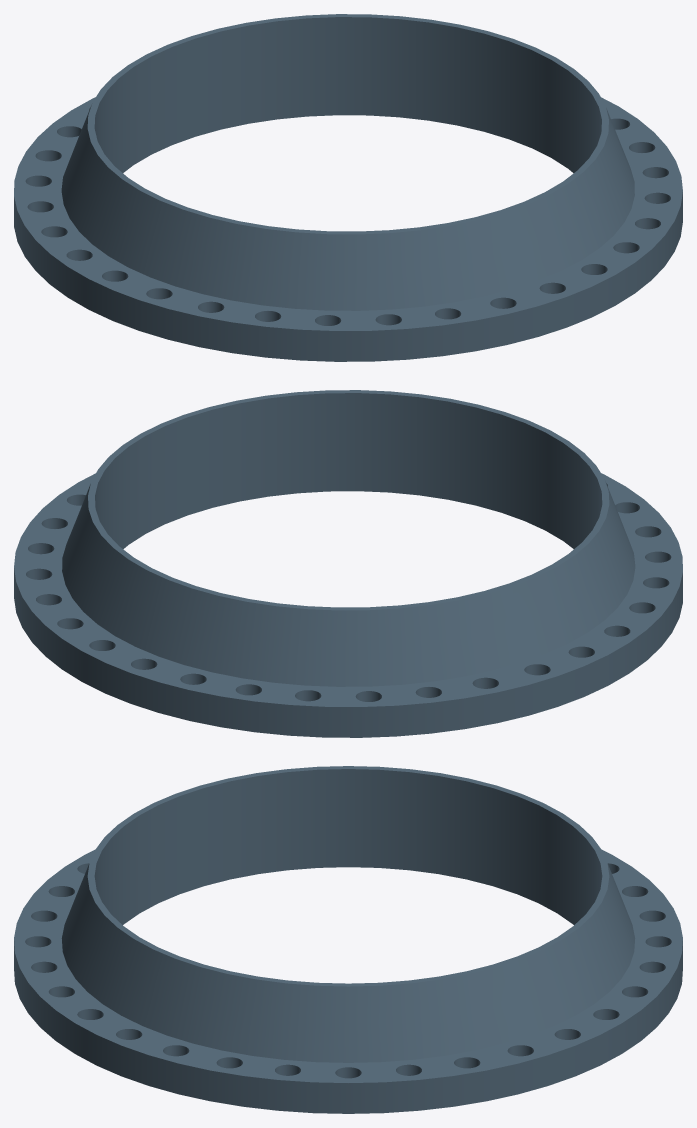
File: flanec-vorotnikovyj-DN1200-PN40.glb
The picture shows the model from 3 angles, top to bottom: view 1: azimuth 30°, elevation 25°; view 2: azimuth 150°, elevation 25°; view 3: azimuth 270°, elevation 25°; orthographic projection.
Parts seen in each view (by area): view 1: Open CASCADE STEP translator 7.9 118; view 2: Open CASCADE STEP translator 7.9 118; view 3: Open CASCADE STEP translator 7.9 118.
Part boxes in pixels (x1=…): Open CASCADE STEP translator 7.9 118: x1=14, y1=14, x2=682, y2=361; Open CASCADE STEP translator 7.9 118: x1=14, y1=390, x2=682, y2=737; Open CASCADE STEP translator 7.9 118: x1=14, y1=766, x2=682, y2=1113.
Bounding box in the file's own units: 1574 × 255 × 1574.
